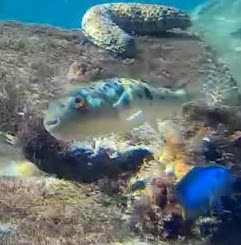hugu: (42, 68, 202, 147)
